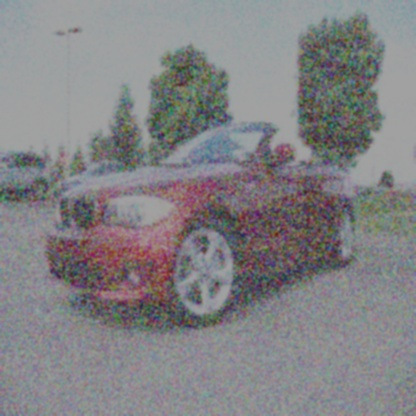Vehicle: (45, 124, 363, 322)
